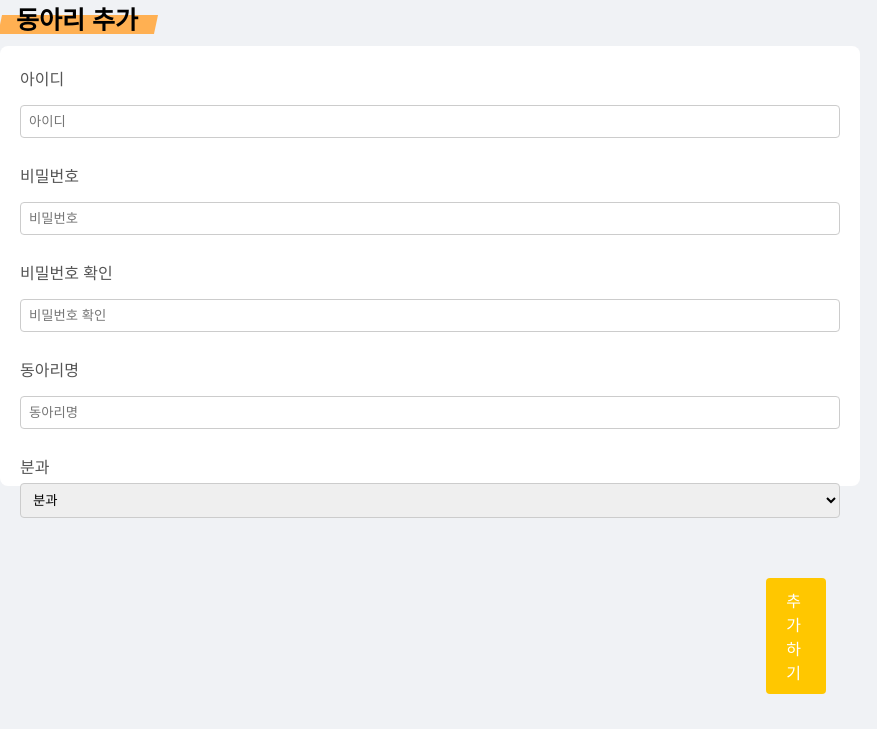
Admin AddClub.vue › shows clubName validation error for long name
The width and height of the screenshot is (877, 729).
In the field with id "clubName": (430, 412) [20, 396, 840, 429], type "12345678901"
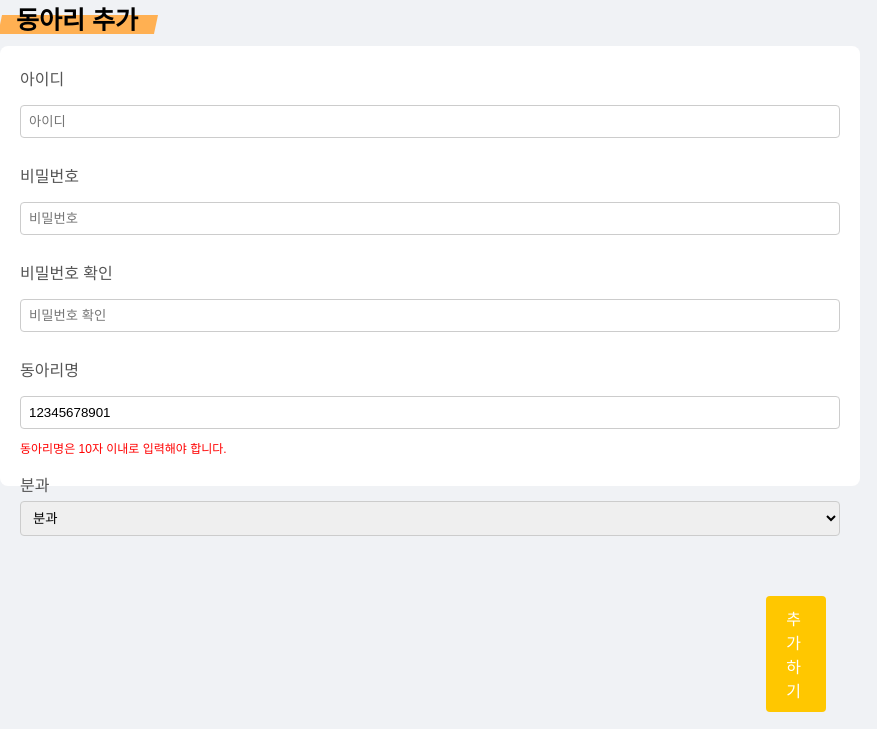
Expected: the text "동아리명은 10자 이내로 입력해야 합니다." is shown, [20, 442, 227, 456]
